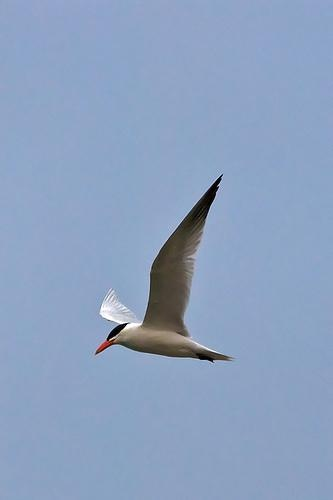bird: (88, 168, 228, 367)
